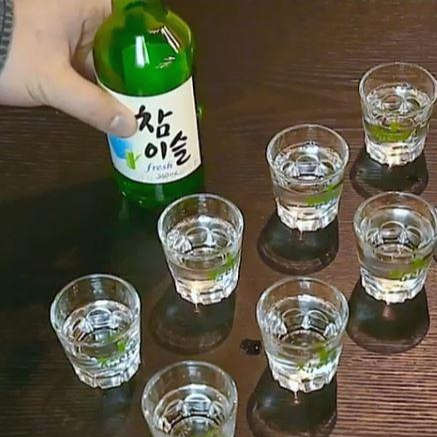soju: (88, 2, 212, 205)
